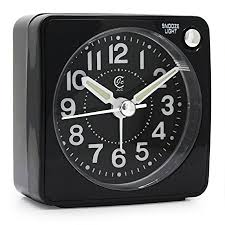alarm_clock: (11, 13, 210, 206)
